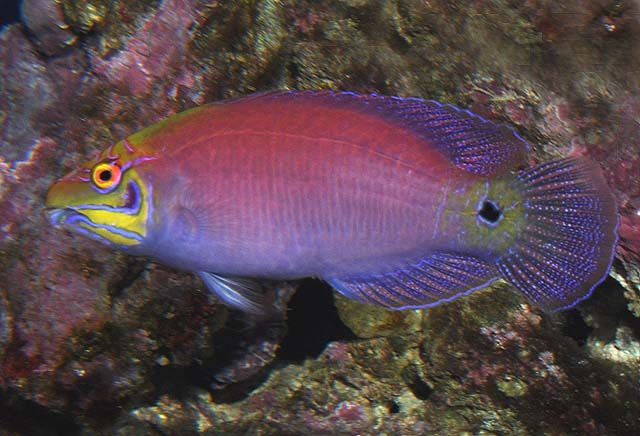fish: (46, 90, 620, 317)
